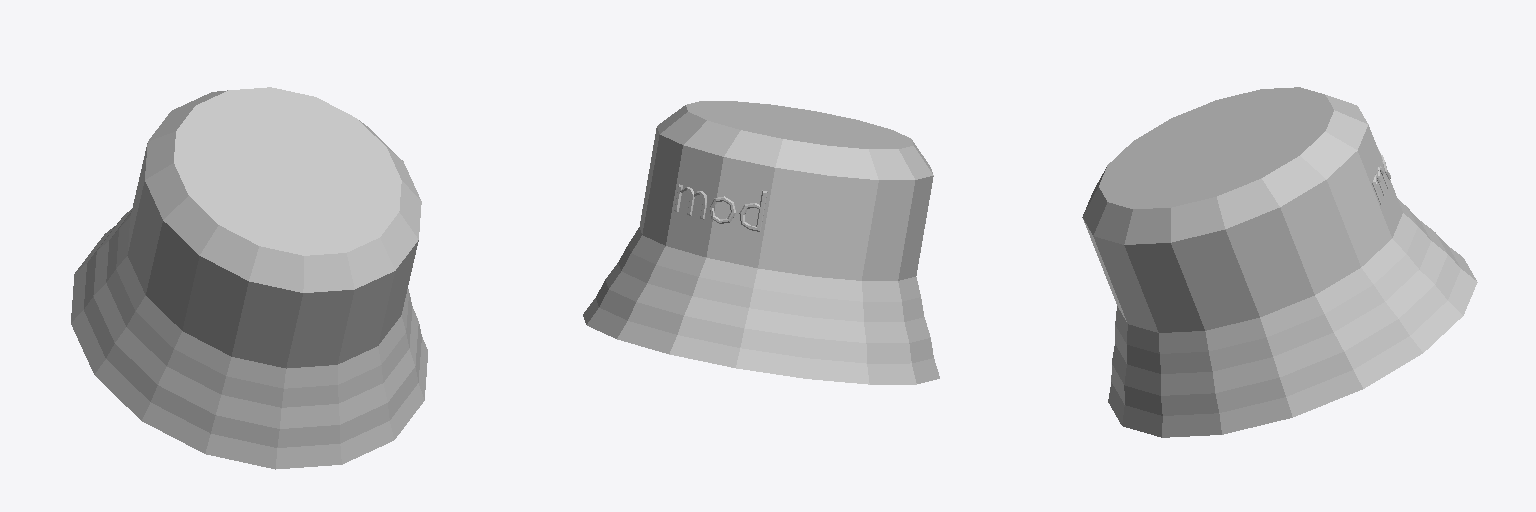
Rendered from sunhat_basic_moderator.sgm.obj.
3 renders of one model, left to right at view 1: azimuth 30°, elevation 25°; view 2: azimuth 150°, elevation 25°; view 3: azimuth 270°, elevation 25°, orthographic.
Size of the model in its own units: 0.4889 by 0.4386 by 0.539.